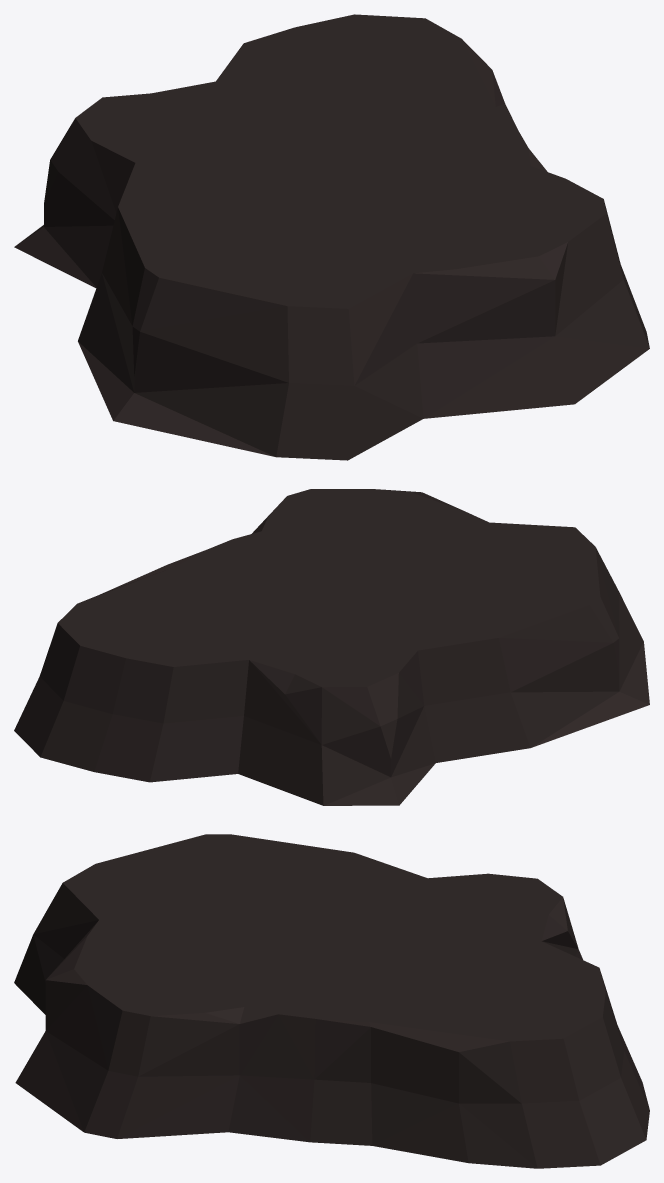
The model's file is Rock 01.FBX.
3 renders of one model, top to bottom at view 1: azimuth 30°, elevation 25°; view 2: azimuth 150°, elevation 25°; view 3: azimuth 270°, elevation 25°, orthographic. The views are drawn at different scales.
Parts seen in each view (by area): view 1: Plane001; view 2: Plane001; view 3: Plane001.
Boxes of the visible parts, box(x1,y1,x2,y2) form: Plane001: box(14, 14, 649, 460); Plane001: box(14, 489, 649, 805); Plane001: box(14, 834, 649, 1168).
Size of the model in its own units: 27.5 by 5.88 by 30.12.
